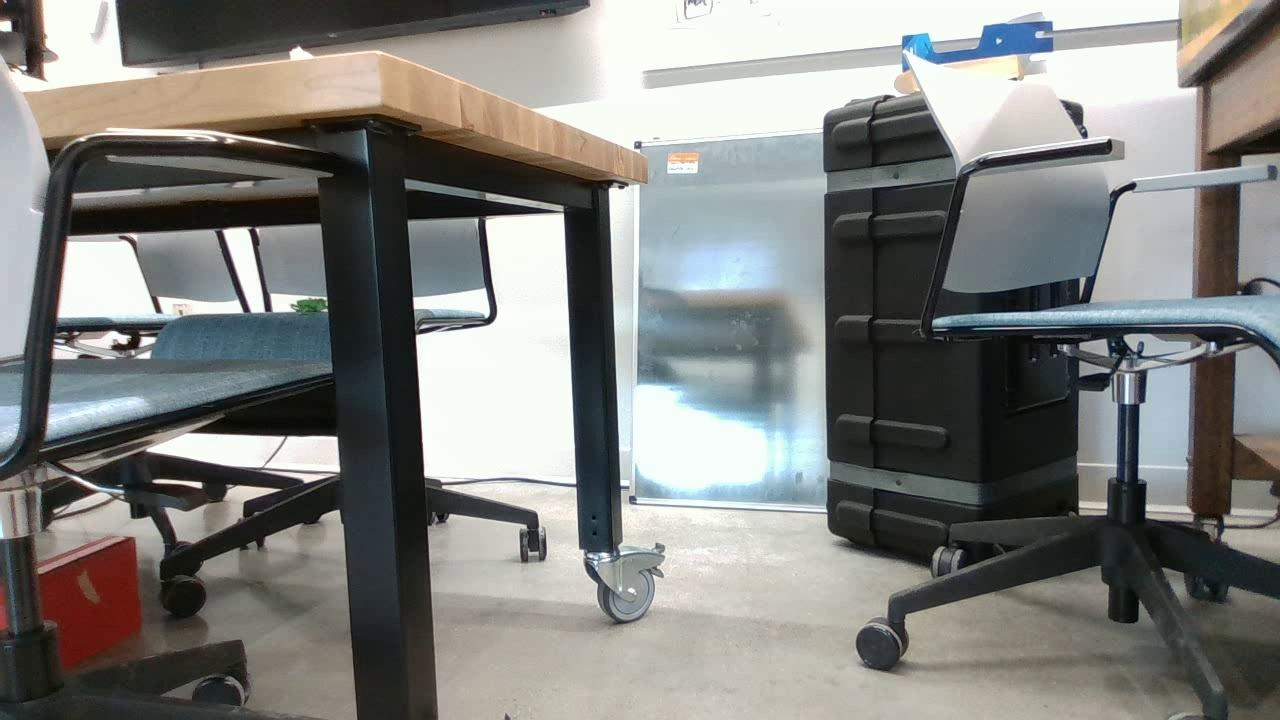grasshopper: (290, 299, 328, 311)
